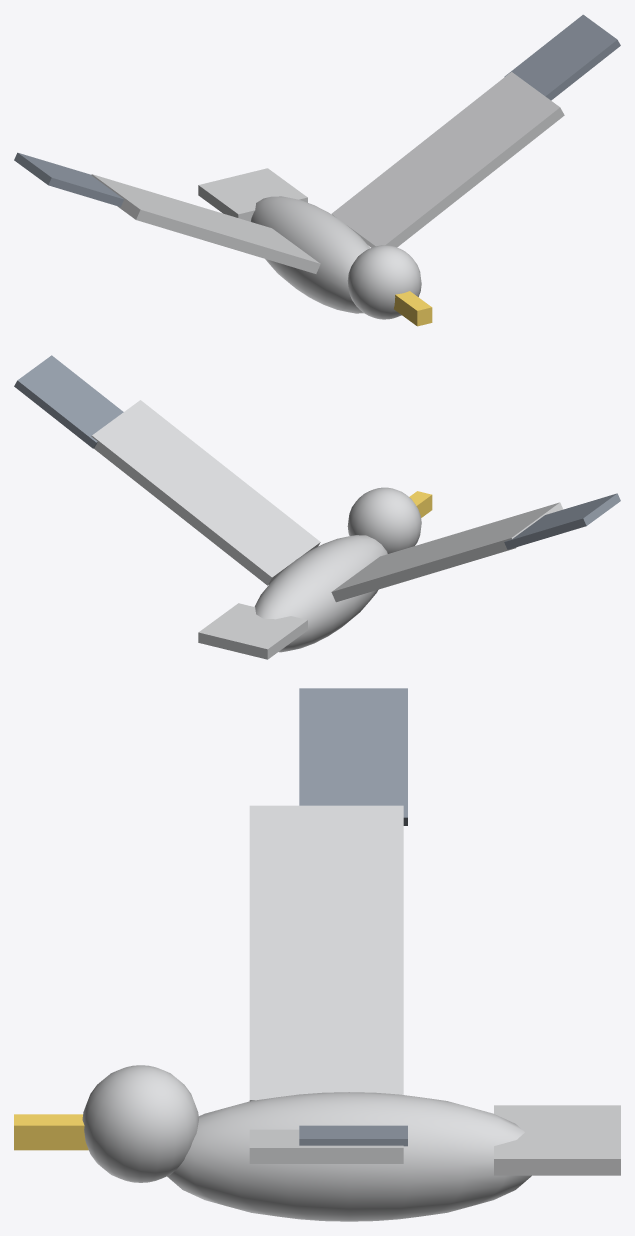
File: seagull.glb
The picture shows the model from 3 angles, top to bottom: view 1: azimuth 30°, elevation 25°; view 2: azimuth 150°, elevation 25°; view 3: azimuth 270°, elevation 25°; orthographic projection. The views are drawn at different scales.
Visible parts, largest first — view 1: WingR_Inner, Body, WingL_Inner, WingR_Tip, Head, Tail, WingL_Tip, Beak; view 2: WingR_Inner, Body, WingL_Inner, WingR_Tip, Tail, Head, WingL_Tip; view 3: WingL_Inner, Body, WingL_Tip, Head, Tail, WingR_Inner, Beak, WingR_Tip.
Boxes of the visible parts, left/top/right/bottom form: WingR_Inner: left=331, top=72, right=564, bottom=247; Body: left=251, top=196, right=369, bottom=313; WingL_Inner: left=91, top=174, right=320, bottom=273; WingR_Tip: left=504, top=14, right=620, bottom=100; Head: left=347, top=245, right=421, bottom=319; Tail: left=198, top=168, right=307, bottom=221; WingL_Tip: left=14, top=152, right=123, bottom=206; Beak: left=394, top=291, right=432, bottom=326; WingR_Inner: left=91, top=400, right=320, bottom=585; Body: left=254, top=535, right=387, bottom=652; WingL_Inner: left=331, top=502, right=563, bottom=602; WingR_Tip: left=14, top=355, right=123, bottom=448; Tail: left=198, top=603, right=307, bottom=659; Head: left=347, top=487, right=421, bottom=553; WingL_Tip: left=504, top=493, right=620, bottom=549; WingL_Inner: left=249, top=805, right=403, bottom=1101; Body: left=167, top=1092, right=531, bottom=1221; WingL_Tip: left=299, top=688, right=407, bottom=825; Head: left=82, top=1065, right=198, bottom=1182; Tail: left=494, top=1105, right=620, bottom=1175; WingR_Inner: left=249, top=1129, right=403, bottom=1163; Beak: left=14, top=1114, right=88, bottom=1150; WingR_Tip: left=299, top=1125, right=407, bottom=1146.
Size of the model in its own units: 2.31 by 0.752 by 1.34.
